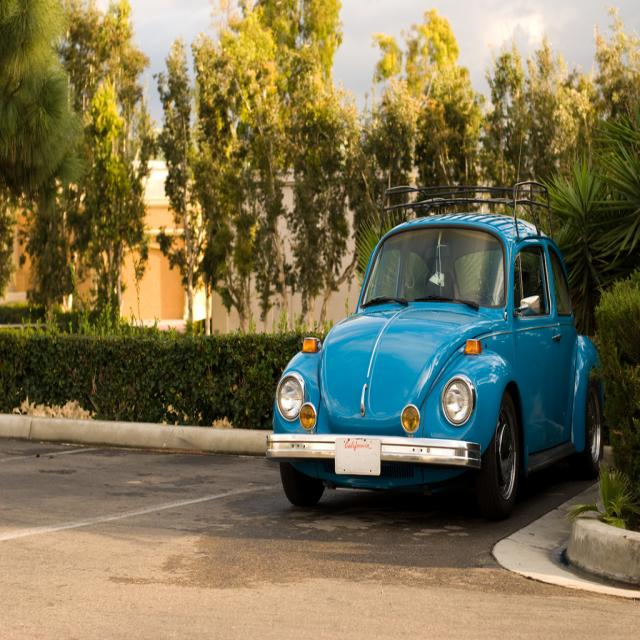car: (272, 212, 583, 510)
